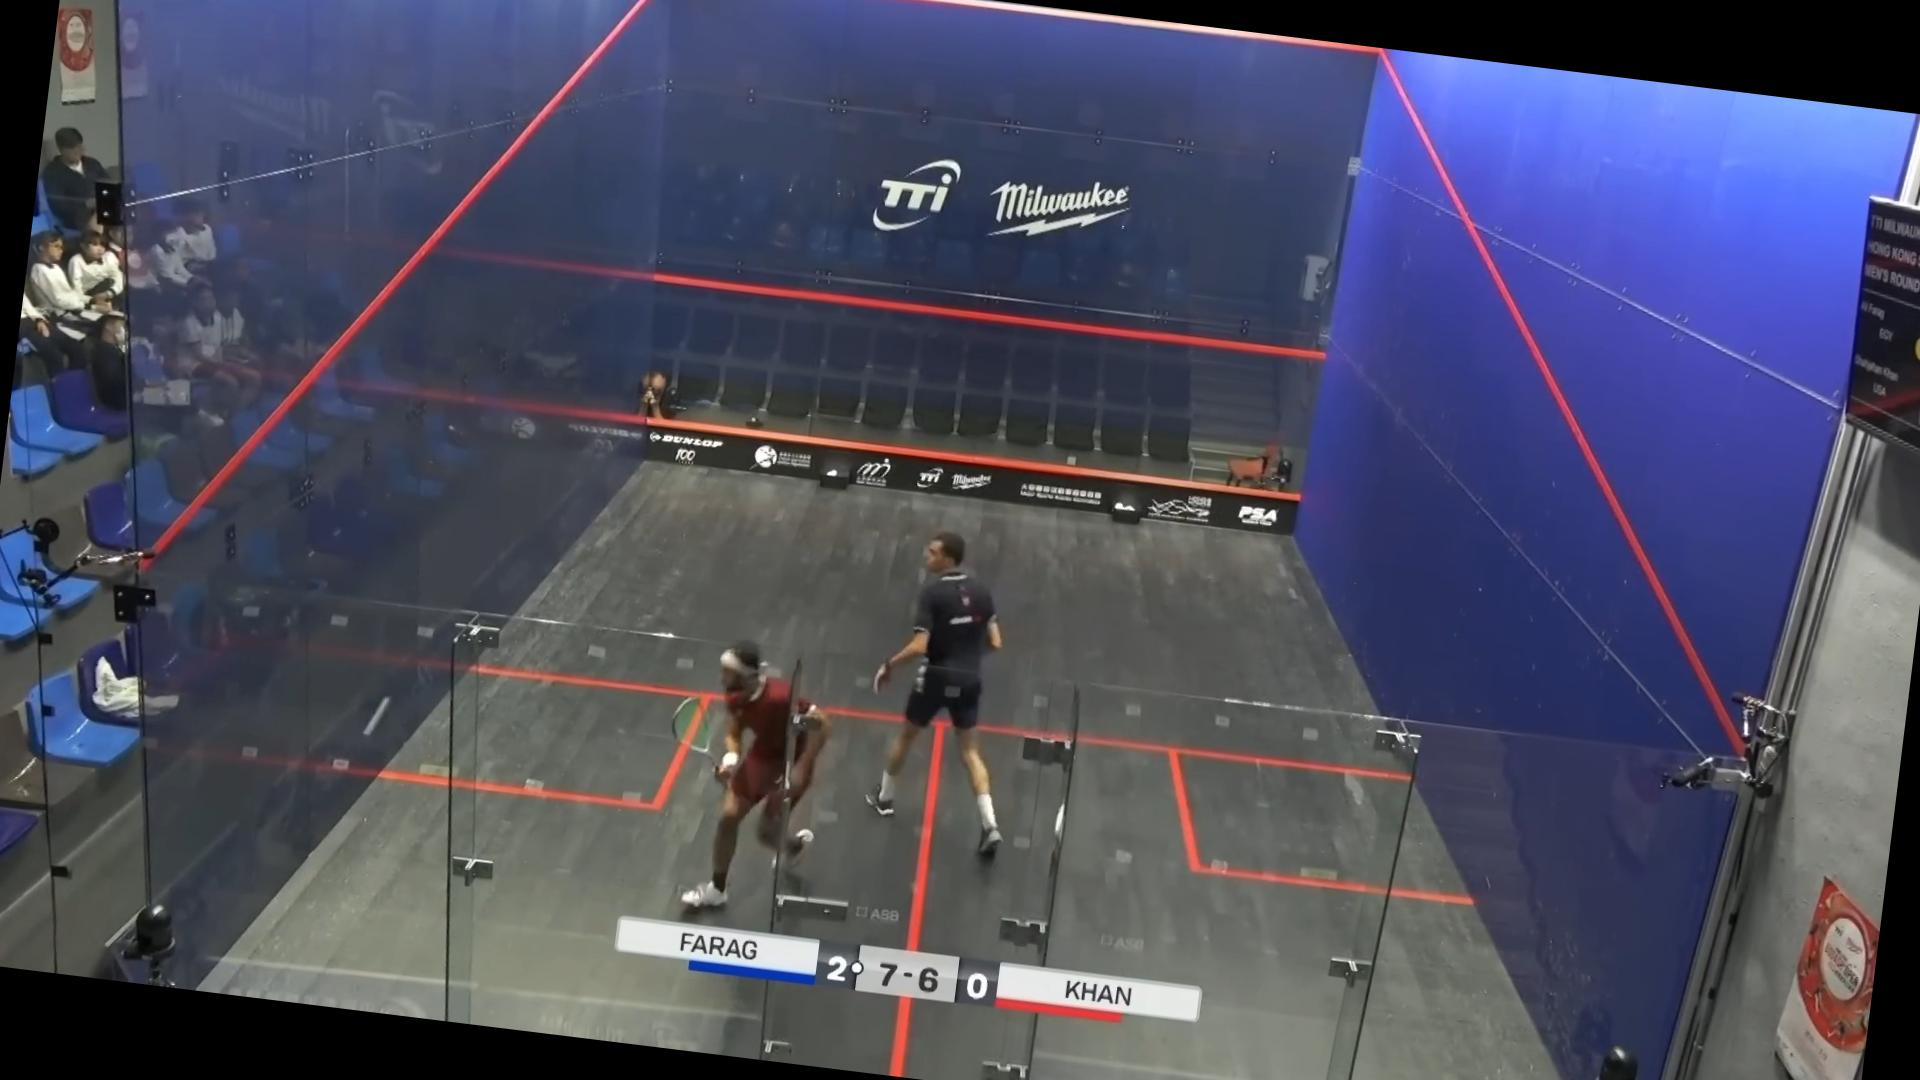Racket: (658, 684, 732, 766)
